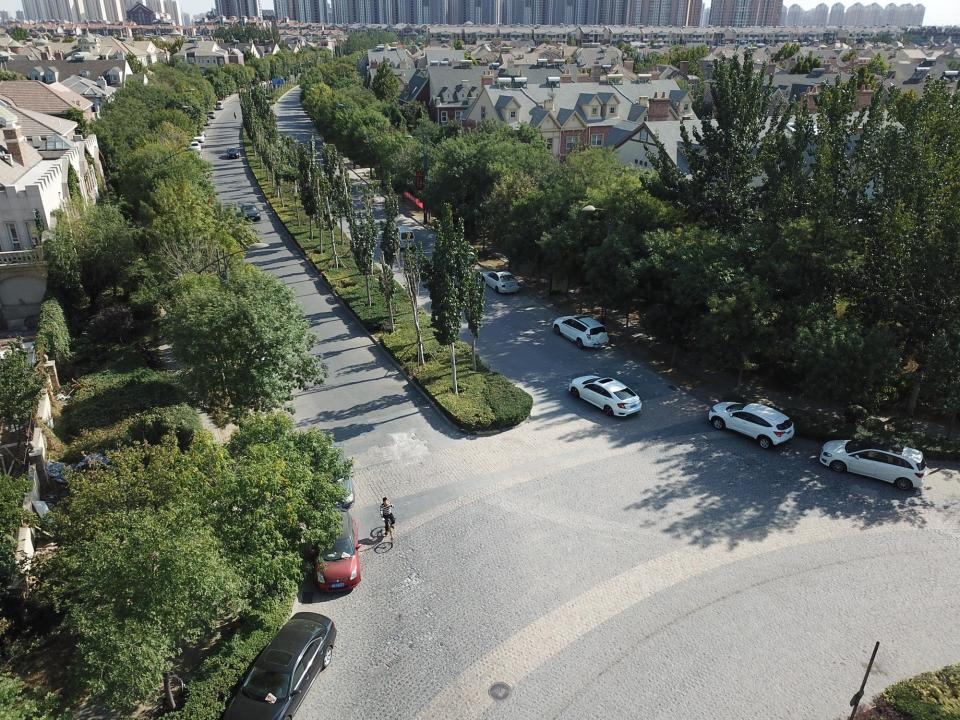car: (219, 612, 336, 720), (818, 437, 926, 489), (708, 400, 795, 448), (297, 436, 353, 510), (313, 509, 360, 594), (568, 375, 642, 417), (551, 312, 608, 348), (481, 268, 518, 294), (395, 223, 417, 251), (240, 202, 261, 220), (188, 141, 201, 152), (225, 148, 238, 158), (192, 131, 205, 140)
